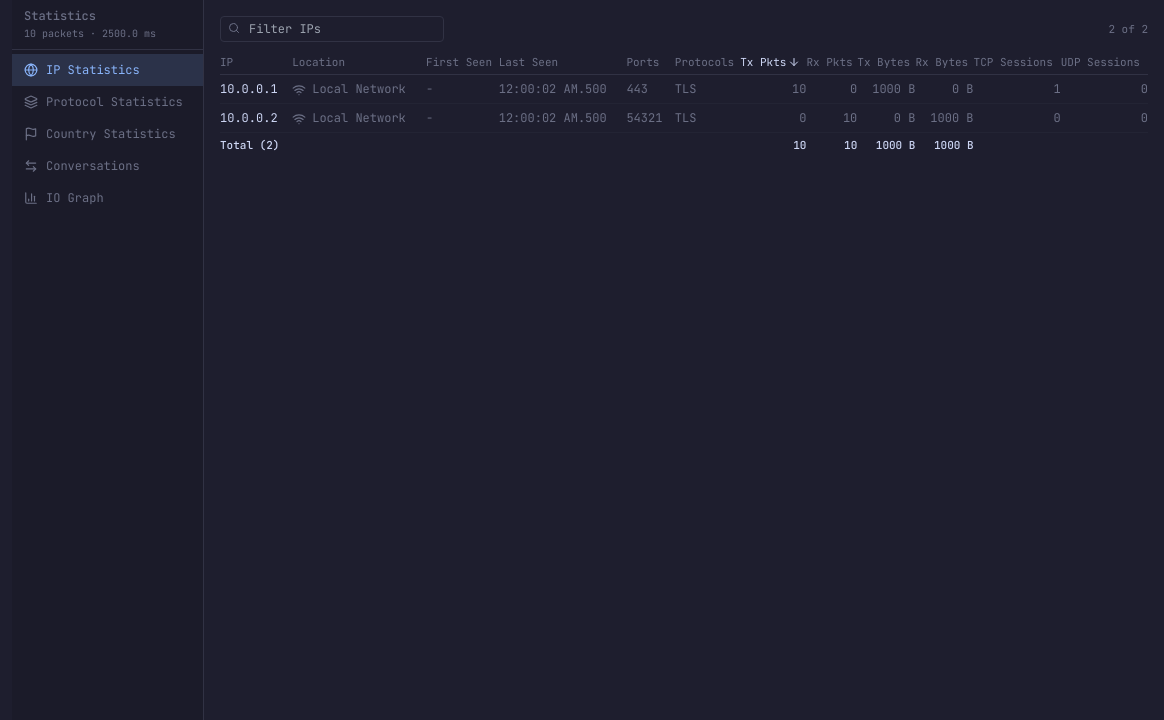
StatsTabs › switches to Conversations view
What coordinates should you click on to do the following:
click the button "Conversations"
I would click on:
 (108, 166)
Its box is [12,150,203,182].
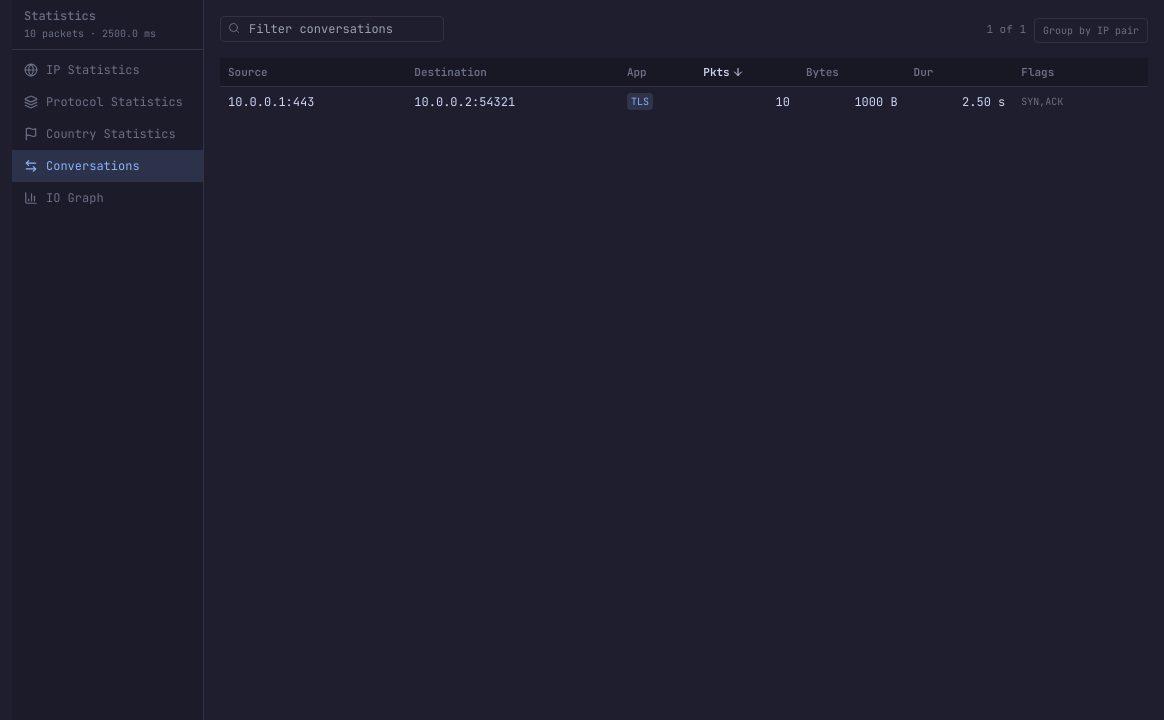
Expected: the text "10.0.0.1:443" is shown, [220,86,406,116]
Expected: the text "10.0.0.2:54321" is shown, [406,86,619,116]
